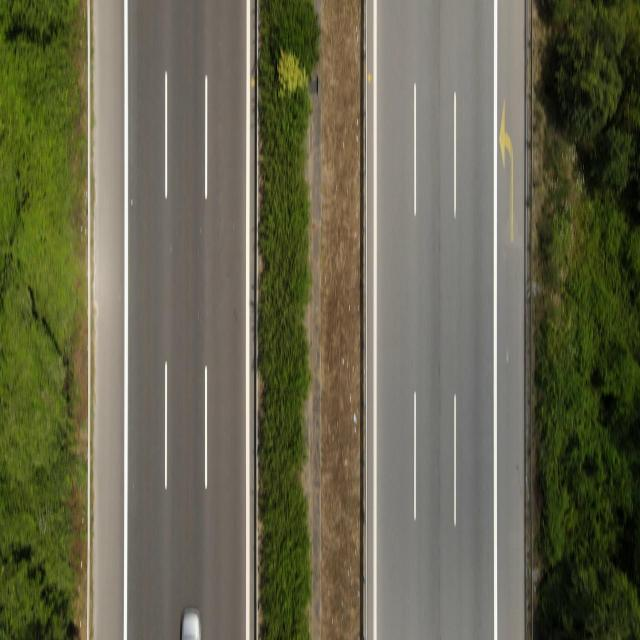Car: (169, 616, 223, 640)
